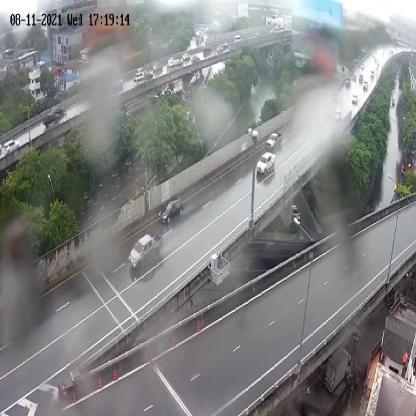car: (127, 230, 162, 274), (160, 196, 184, 226), (255, 150, 277, 179), (266, 130, 283, 152)
